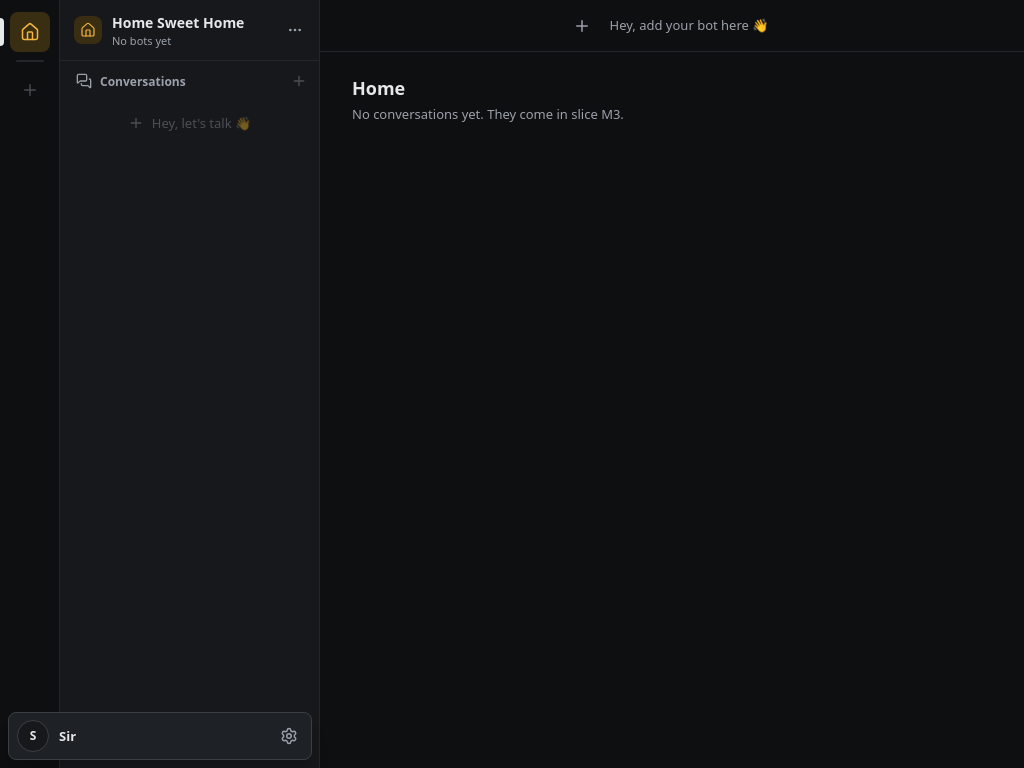
bar 2 › can be hidden from its ⋯ menu
This screenshot has width=1024, height=768.
Click the button named "Home menu": (295, 30) x1=283 y1=18 x2=307 y2=42
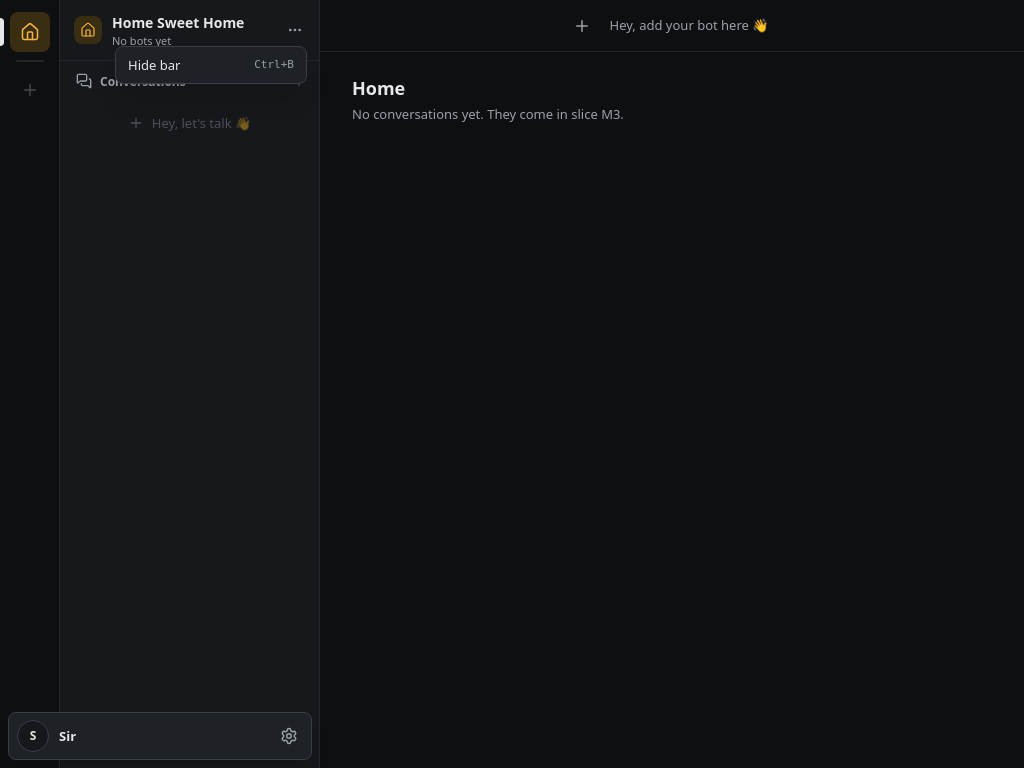
Click the menu item "Hide bar Ctrl+B": (154, 65) x1=120 y1=51 x2=302 y2=79
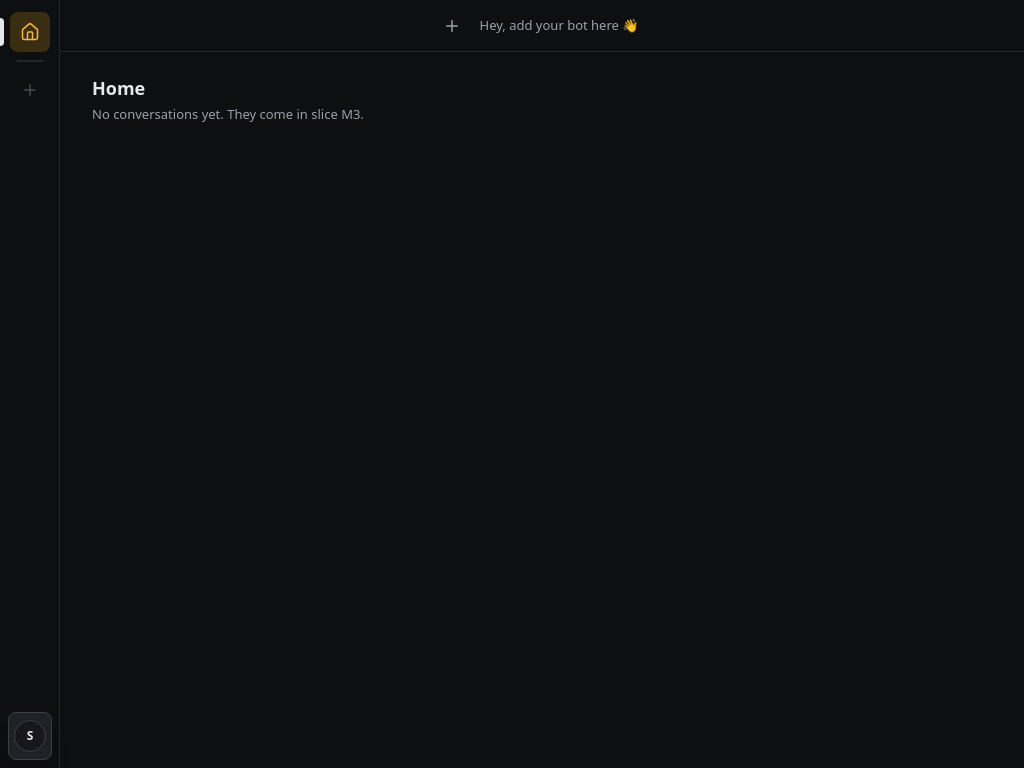
Expected: the text "Home Sweet Home" is gone
